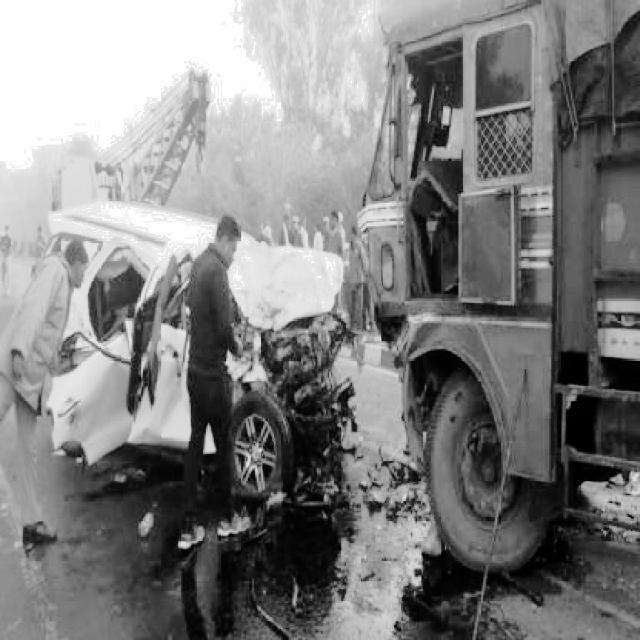HCV: (377, 14, 639, 538)
